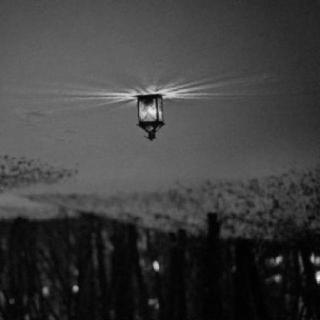other: (109, 88, 185, 121), (309, 248, 320, 286), (143, 254, 161, 272), (41, 283, 51, 299), (70, 284, 81, 296)
